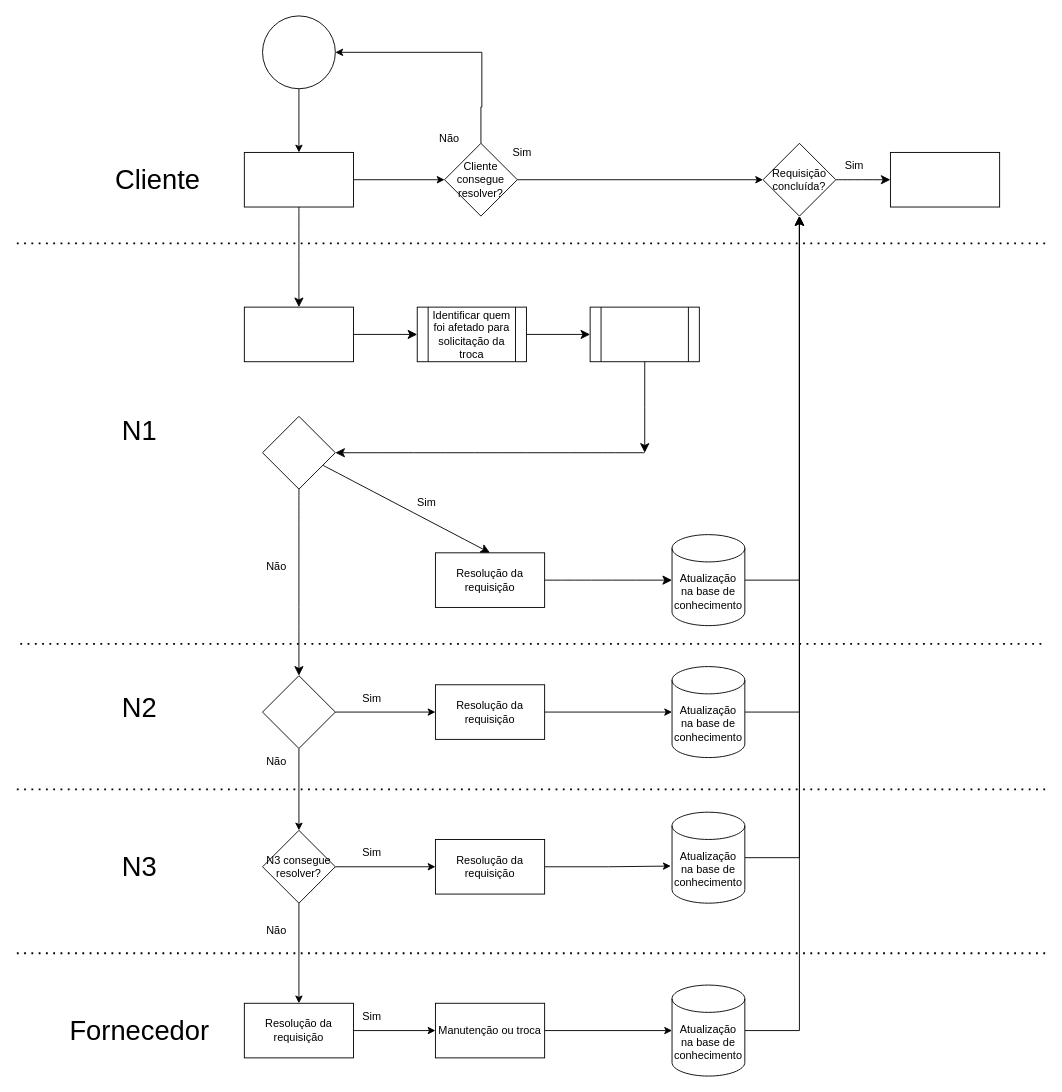
This 1062x1092 diagram has some shape labels left out. The centre of each missing label's shape, as x and y in pixels:
Abertura do chamado: point 298,179
Definir prioridade com base na Matrix SLA: point 644,334
Encerrar atendimento: point 945,179
Inicio: point 298,52
N1 consegue resolver?: point 298,452
N2 consegue resolver?: point 298,711
Registro da ocorrência: point 298,334
